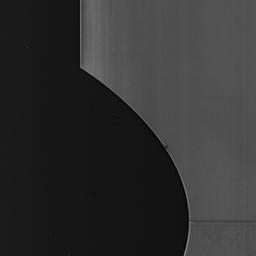Crescent gap: (80, 69, 189, 256)
